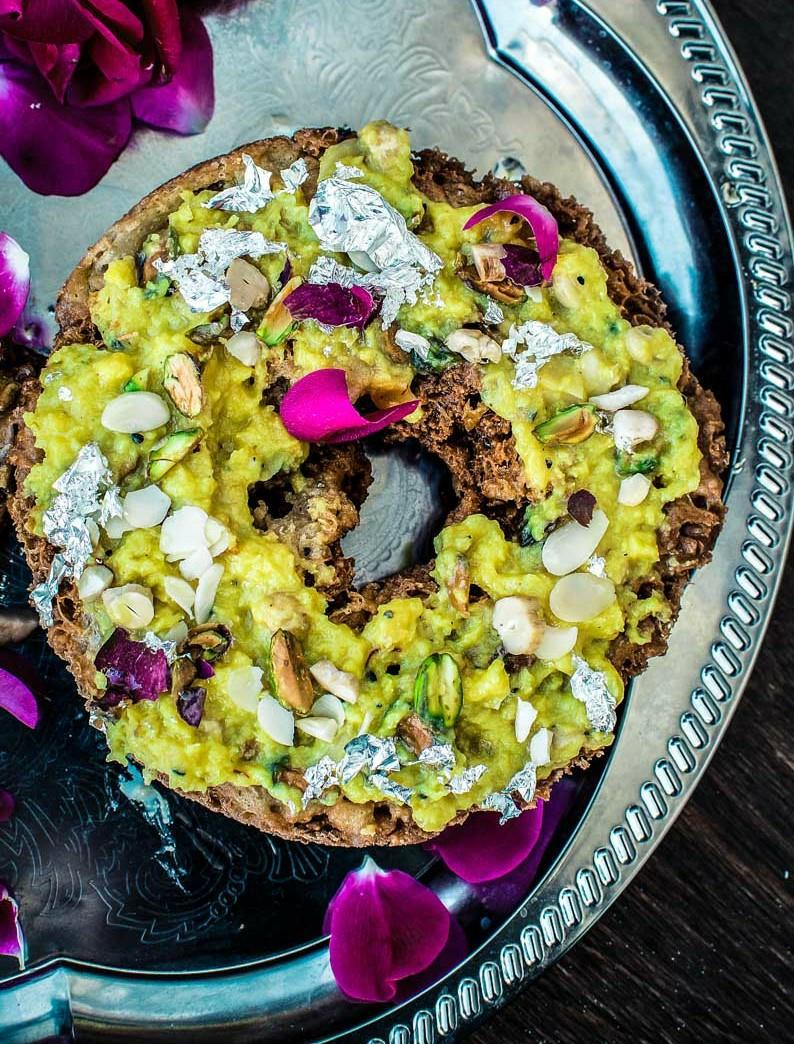Ghevar: (3, 123, 730, 852)
